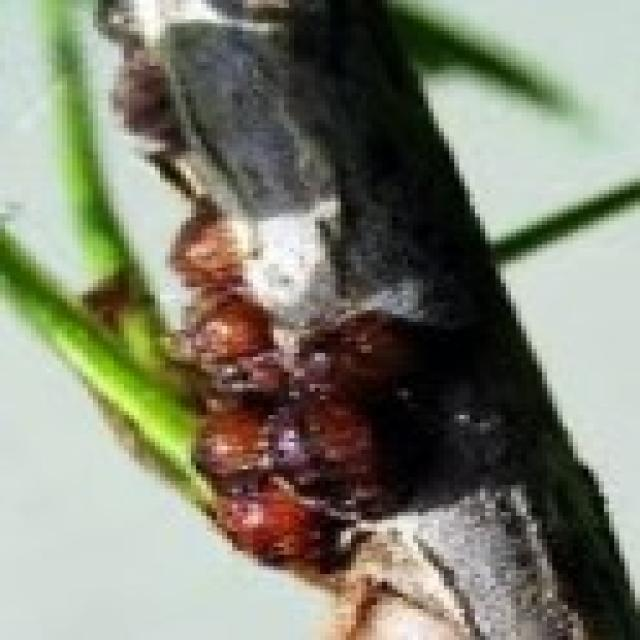BlackScale: (175, 210, 438, 570)
